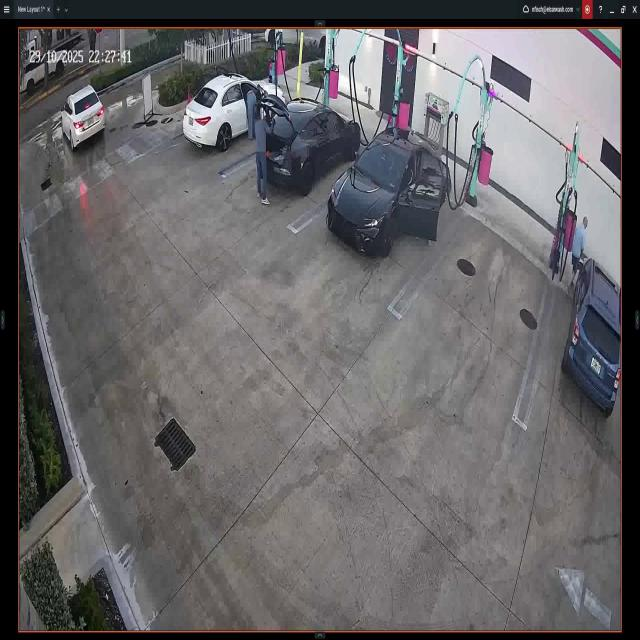Car: (327, 125, 452, 256), (562, 256, 622, 412), (255, 97, 360, 183), (183, 74, 284, 149), (61, 86, 105, 150), (264, 28, 335, 53)
